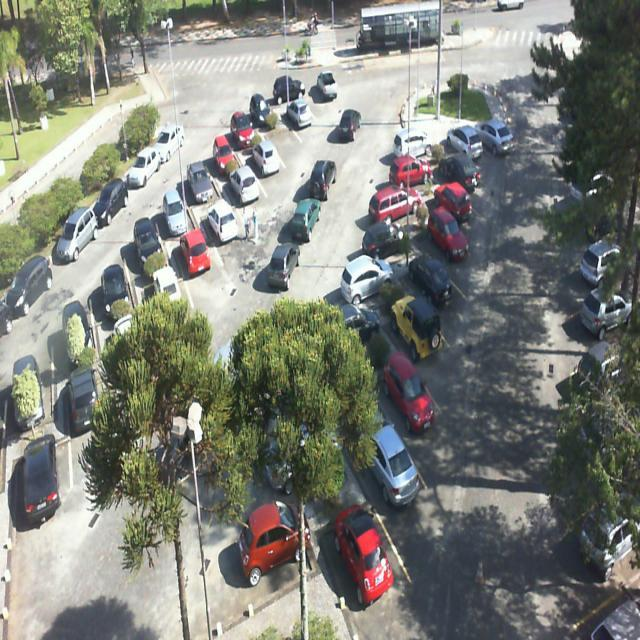space-empty: (265, 107, 303, 157)
space-occupied: (322, 488, 402, 620), (235, 500, 324, 608), (351, 401, 425, 521), (386, 287, 451, 382), (374, 355, 440, 444), (405, 251, 459, 328), (416, 205, 469, 274), (339, 250, 398, 310), (94, 245, 136, 324), (426, 173, 478, 236), (356, 215, 414, 266), (368, 176, 426, 226), (437, 147, 489, 200), (126, 214, 167, 279), (181, 222, 220, 290), (158, 180, 196, 242), (204, 189, 243, 248), (229, 159, 267, 218), (380, 150, 434, 190), (449, 122, 492, 168), (205, 125, 240, 179), (225, 105, 261, 156), (183, 151, 218, 202), (248, 134, 285, 182), (282, 88, 318, 134), (399, 126, 442, 159), (245, 87, 276, 132)
